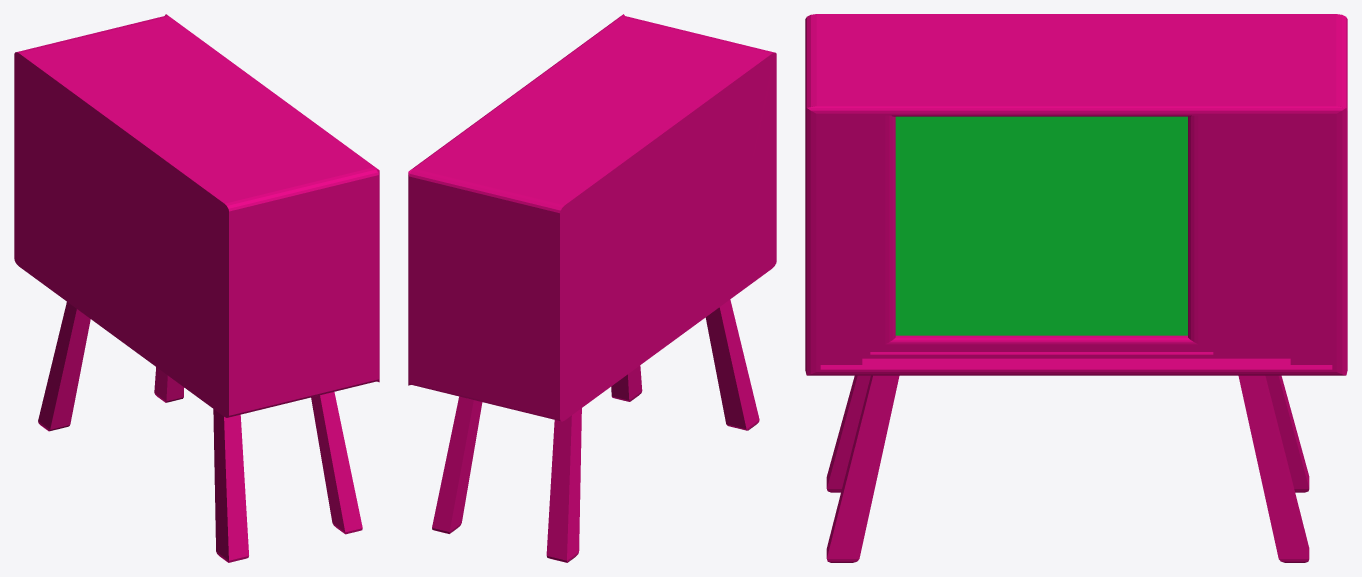
3 renders of one model, left to right at view 1: azimuth 30°, elevation 25°; view 2: azimuth 150°, elevation 25°; view 3: azimuth 270°, elevation 25°, orthographic. The views are drawn at different scales.
Parts seen in each view (by area): view 1: Cube.015; view 2: Cube.015; view 3: Cube.015.
Part boxes in pixels (x1=…): Cube.015: x1=14, y1=14, x2=379, y2=562; Cube.015: x1=408, y1=14, x2=776, y2=562; Cube.015: x1=805, y1=14, x2=1347, y2=562.
Size of the model in its own units: 0.4363 by 1 by 1.06.
